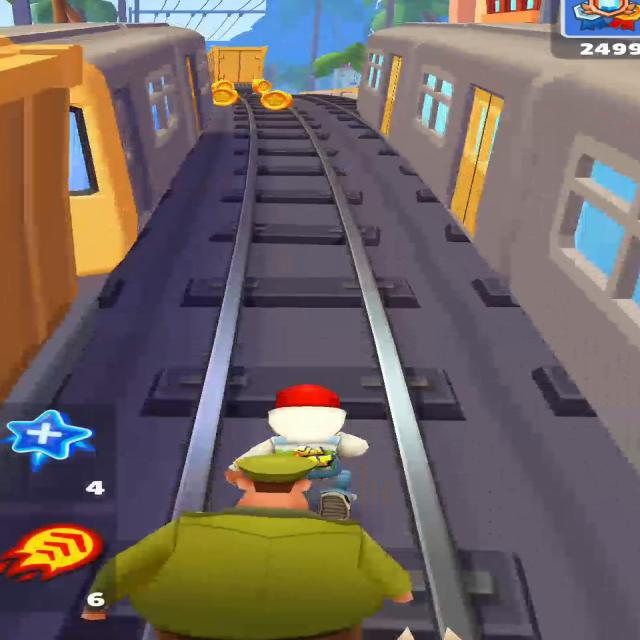police: (83, 454, 413, 640)
train: (358, 23, 639, 472), (0, 23, 212, 400), (208, 46, 267, 88)
